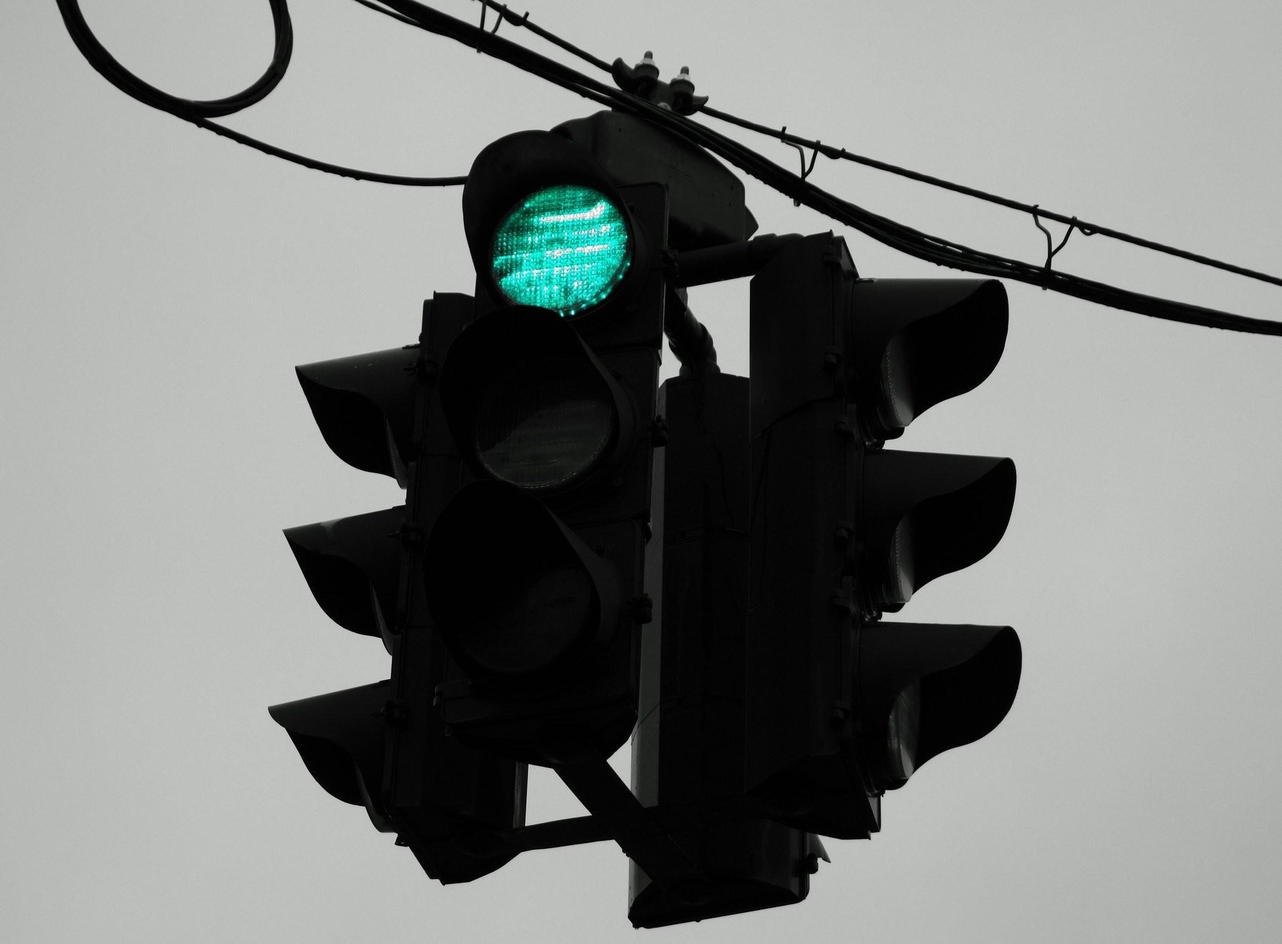green: (442, 140, 666, 720)
